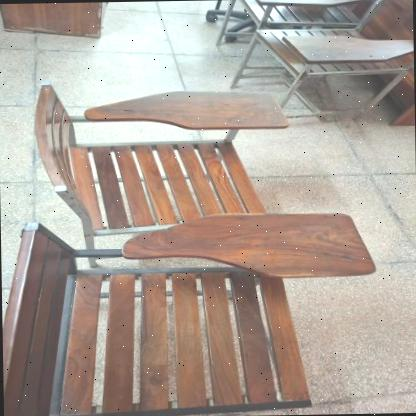chair: (0, 206, 383, 416), (23, 70, 309, 244)
